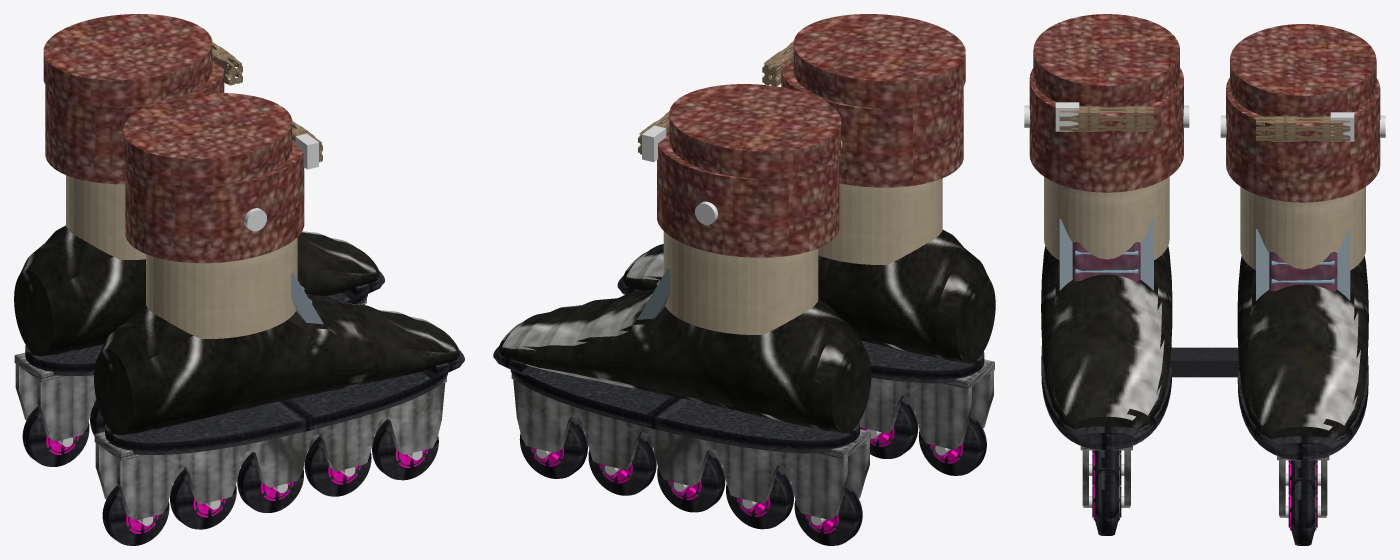
File: Sports_Roller_scates__0026.glb
The picture shows the model from 3 angles, left to right: view 1: azimuth 30°, elevation 25°; view 2: azimuth 150°, elevation 25°; view 3: azimuth 270°, elevation 25°; orthographic projection. The views are drawn at different scales.
Visible parts, largest first — view 1: right_boot::shell, left_boot::shell, right_cuff::collar, right_frame::rail_lateral, right_cuff::upper_collar, left_cuff::upper_collar, right_boot::padded_collar, right_boot::sole, left_cuff::collar, left_boot::padded_collar, left_frame::rail_medial, left_boot::sole (+12 smaller); view 2: left_boot::shell, right_boot::shell, left_cuff::collar, left_frame::rail_lateral, left_cuff::upper_collar, right_cuff::upper_collar, left_boot::padded_collar, left_boot::sole, right_cuff::collar, right_boot::padded_collar, right_frame::rail_medial, right_boot::sole (+12 smaller); view 3: left_boot::shell, right_boot::shell, left_cuff::upper_collar, right_cuff::upper_collar, left_cuff::collar, right_cuff::collar, right_boot::padded_collar, left_boot::padded_collar, left_boot::pair_clip, left_cuff::cuff_strap, right_cuff::cuff_strap, right_boot::tongue (+14 smaller).
Boxes of the visible parts, bbox=[...] form: right_boot::shell: bbox=[94, 294, 459, 435]; left_boot::shell: bbox=[14, 225, 379, 356]; right_cuff::collar: bbox=[125, 133, 304, 263]; right_frame::rail_lateral: bbox=[117, 382, 445, 520]; right_cuff::upper_collar: bbox=[123, 93, 292, 185]; left_cuff::upper_collar: bbox=[43, 14, 212, 106]; right_boot::padded_collar: bbox=[146, 237, 297, 338]; right_boot::sole: bbox=[105, 371, 447, 454]; left_cuff::collar: bbox=[45, 54, 224, 184]; left_boot::padded_collar: bbox=[66, 175, 145, 259]; left_frame::rail_medial: bbox=[37, 303, 365, 441]; left_boot::sole: bbox=[25, 292, 367, 376]; left_boot::shell: bbox=[498, 289, 871, 432]; right_boot::shell: bbox=[622, 230, 995, 362]; left_cuff::collar: bbox=[657, 122, 839, 257]; left_frame::rail_lateral: bbox=[513, 379, 847, 519]; left_cuff::upper_collar: bbox=[669, 84, 841, 178]; right_cuff::upper_collar: bbox=[793, 14, 965, 108]; left_boot::padded_collar: bbox=[663, 231, 818, 334]; left_boot::sole: bbox=[510, 368, 859, 453]; right_cuff::collar: bbox=[781, 52, 963, 187]; right_boot::padded_collar: bbox=[818, 178, 942, 264]; right_frame::rail_medial: bbox=[859, 377, 971, 449]; right_boot::sole: bbox=[861, 340, 984, 383]; left_boot::shell: bbox=[1237, 256, 1368, 439]; right_boot::shell: bbox=[1041, 246, 1172, 429]; left_cuff::upper_collar: bbox=[1230, 24, 1376, 119]; right_cuff::upper_collar: bbox=[1033, 14, 1179, 109]; left_cuff::collar: bbox=[1226, 78, 1380, 202]; right_cuff::collar: bbox=[1029, 68, 1183, 192]; right_boot::padded_collar: bbox=[1044, 177, 1169, 260]; left_boot::padded_collar: bbox=[1240, 187, 1365, 270]; left_boot::pair_clip: bbox=[1169, 347, 1238, 377]; left_cuff::cuff_strap: bbox=[1256, 116, 1350, 141]; right_cuff::cuff_strap: bbox=[1059, 106, 1153, 131]; right_boot::tongue: bbox=[1072, 242, 1140, 281].
Size of the model in its own units: 0.3137 by 0.3278 by 0.276.
12 materials, 9 textured.
